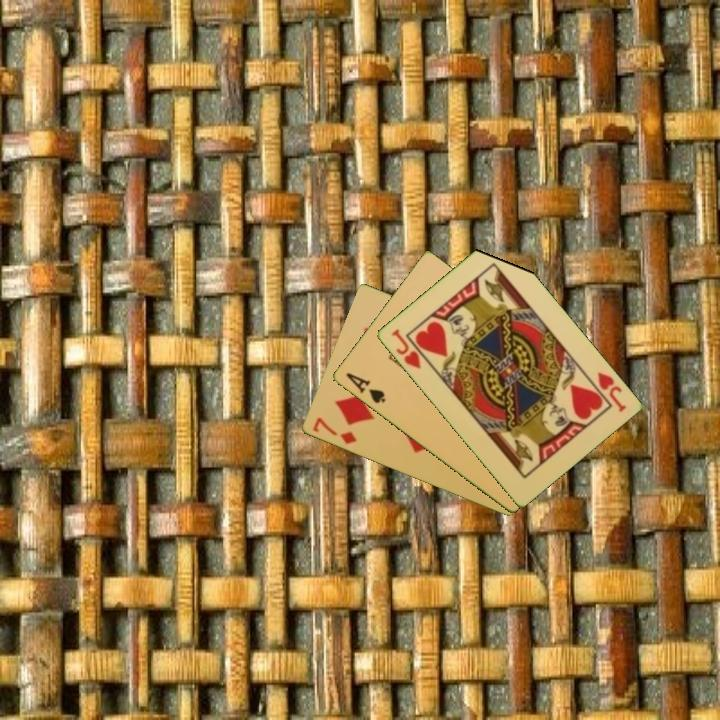7d: (309, 414, 359, 447)
As: (342, 369, 388, 407)
Jh: (387, 325, 432, 372), (593, 368, 629, 415)
